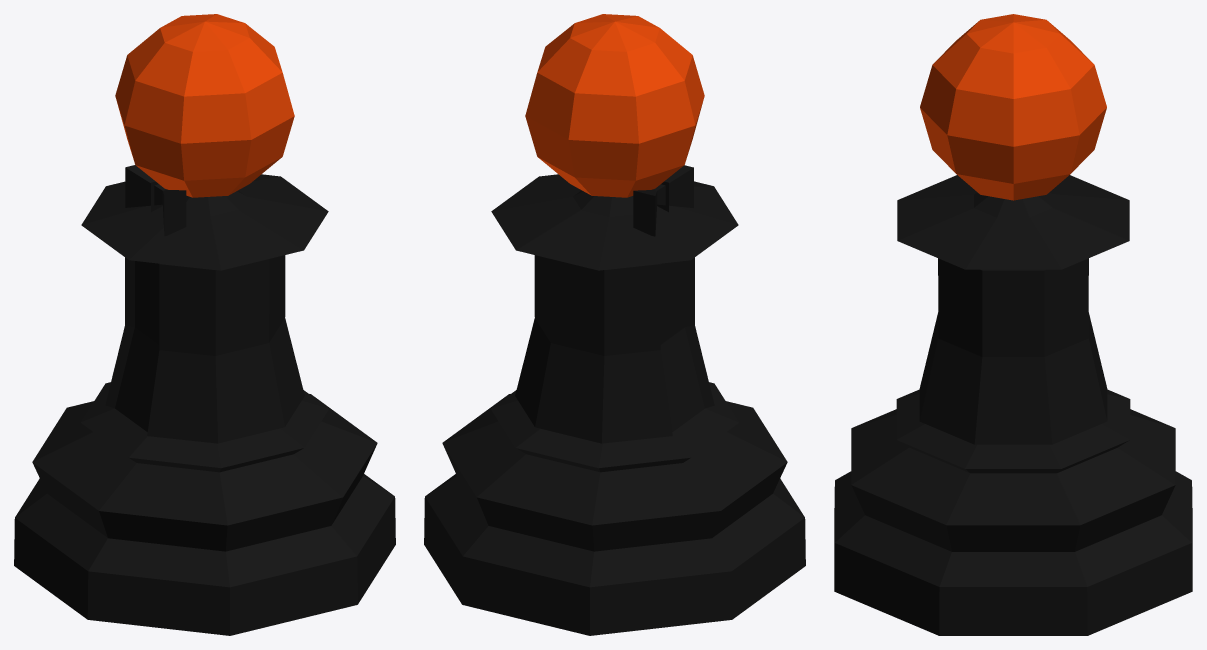
The model's file is pawn.fbx.
3 views of the same model, side by side, from view 1: azimuth 30°, elevation 25°; view 2: azimuth 150°, elevation 25°; view 3: azimuth 270°, elevation 25° (orthographic).
Parts seen in each view (by area): view 1: Pawn; view 2: Pawn; view 3: Pawn.
Part boxes in pixels (x1,y1,x2,y2): Pawn: [14, 14, 395, 635]; Pawn: [424, 14, 805, 635]; Pawn: [834, 14, 1192, 635].
Bounding box in the file's own units: 2.92 × 4.84 × 2.92.
